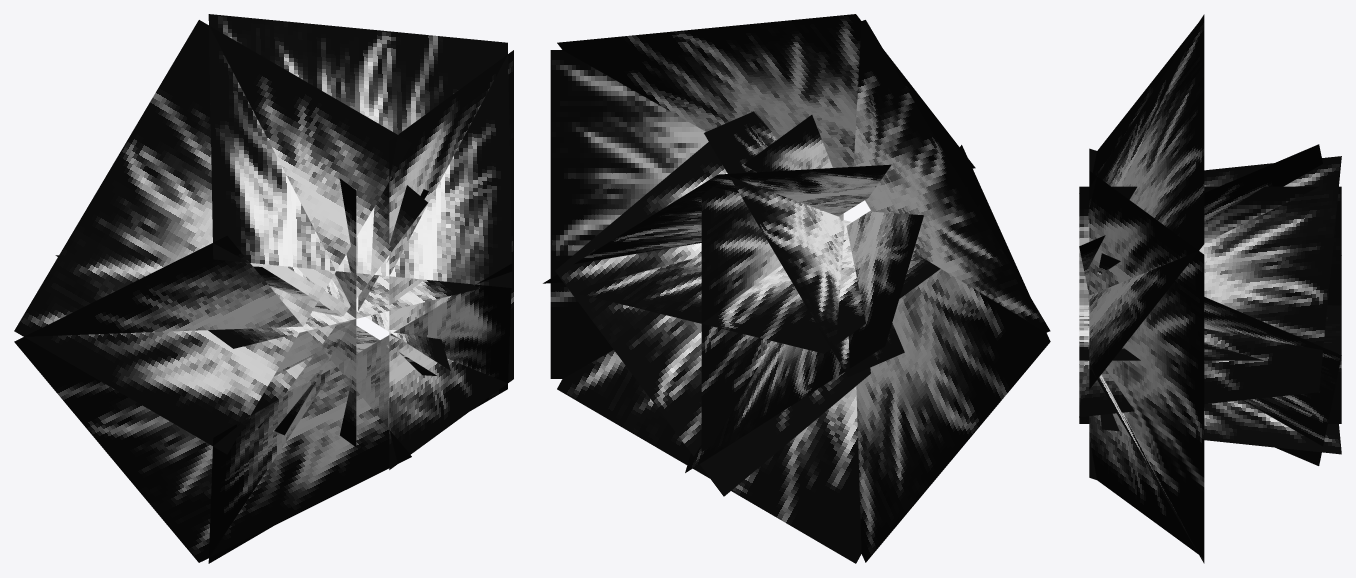
Rendered from Grass_02.fbx.
3 renders of one model, left to right at view 1: azimuth 30°, elevation 25°; view 2: azimuth 150°, elevation 25°; view 3: azimuth 270°, elevation 25°, orthographic. The views are drawn at different scales.
Visible parts, largest first — view 1: Plane; view 2: Plane; view 3: Plane.
Part boxes in pixels (x1,y1,x2,y2): Plane: (14, 14, 513, 563); Plane: (543, 14, 1050, 563); Plane: (1079, 14, 1341, 563).
Size of the model in its own units: 407 by 428 by 201.
1 material, 1 textured.
